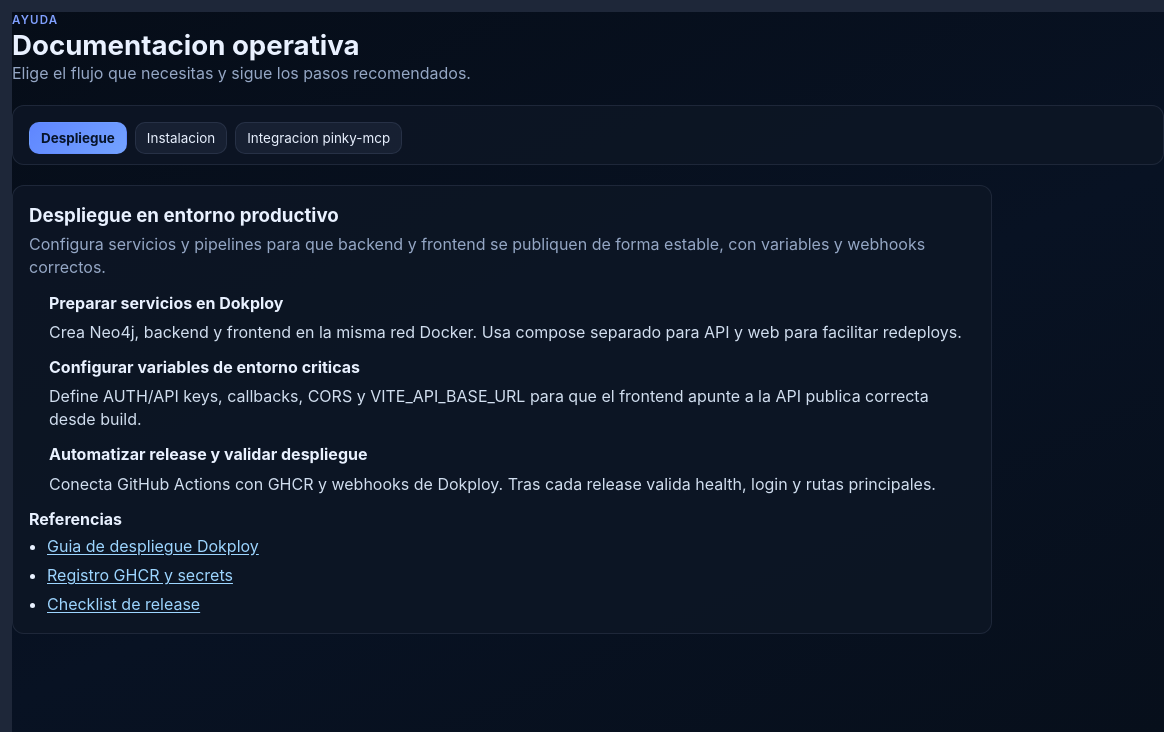
DocumentationPage › changes content when selecting another section
Check: the heading "Despliegue en entorno productivo" is shown, box [29,204,339,227]
What coordinates should you click on to do the following:
click the tab "Instalacion"
I would click on:
 (181, 138)
Its box is [135,122,227,154].
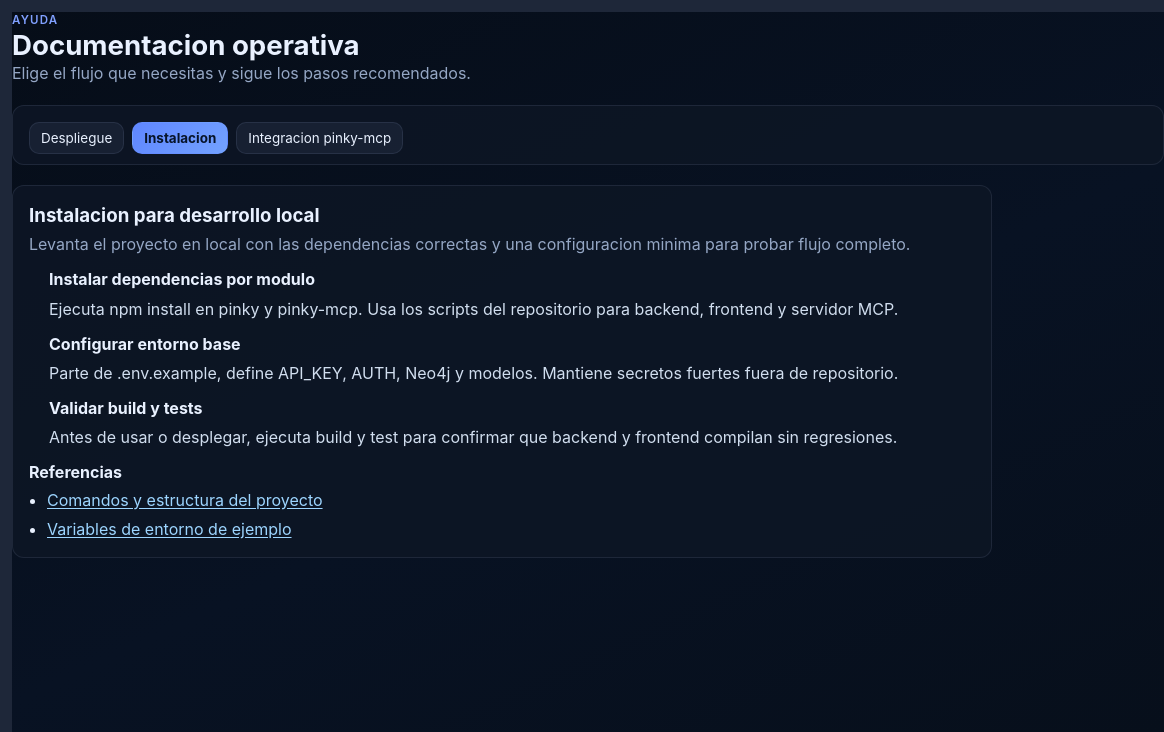
Check: the heading "Instalacion para desarrollo local" is shown, box [29,204,320,227]
Check: the link "Comandos y estructura del proyecto" is shown, box [47,490,323,510]
What coordinates should you click on to do the following:
click the tab "Integracion pinky-mcp"
I would click on:
 (320, 138)
Its box is [236,122,403,154].
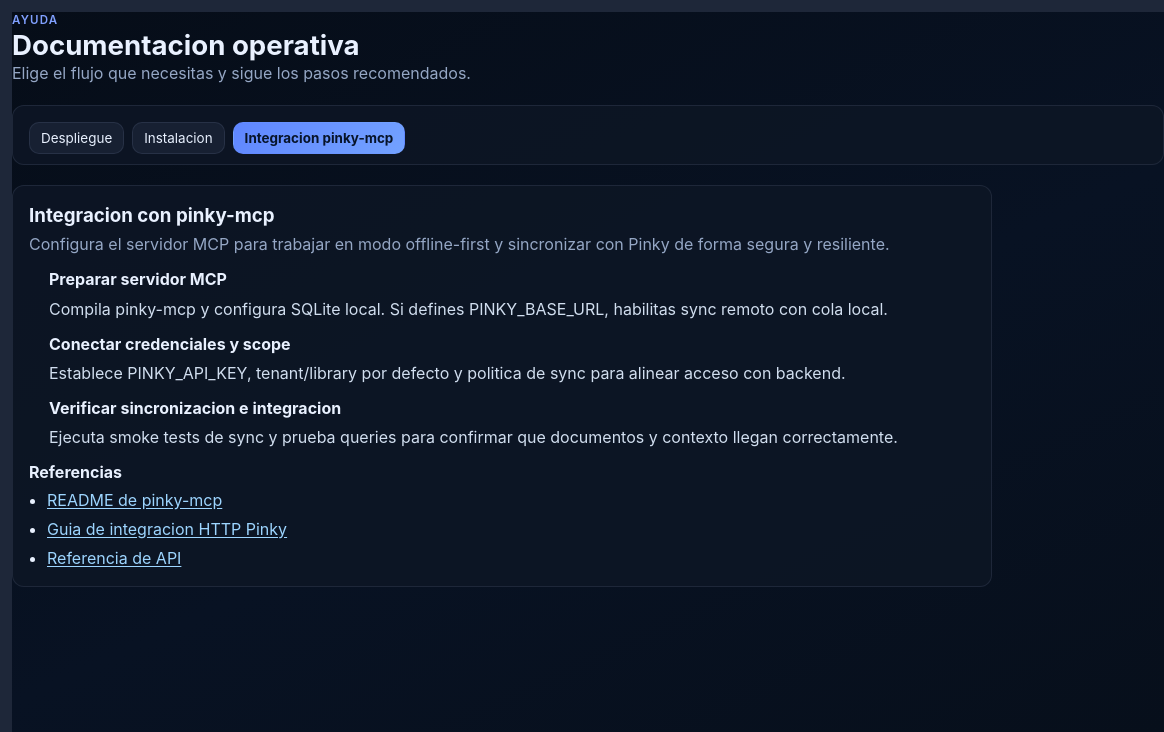
Check: the heading "Integracion con pinky-mcp" is shown, box [29,204,274,227]
Check: the link "README de pinky-mcp" is shown, box [47,490,222,510]
